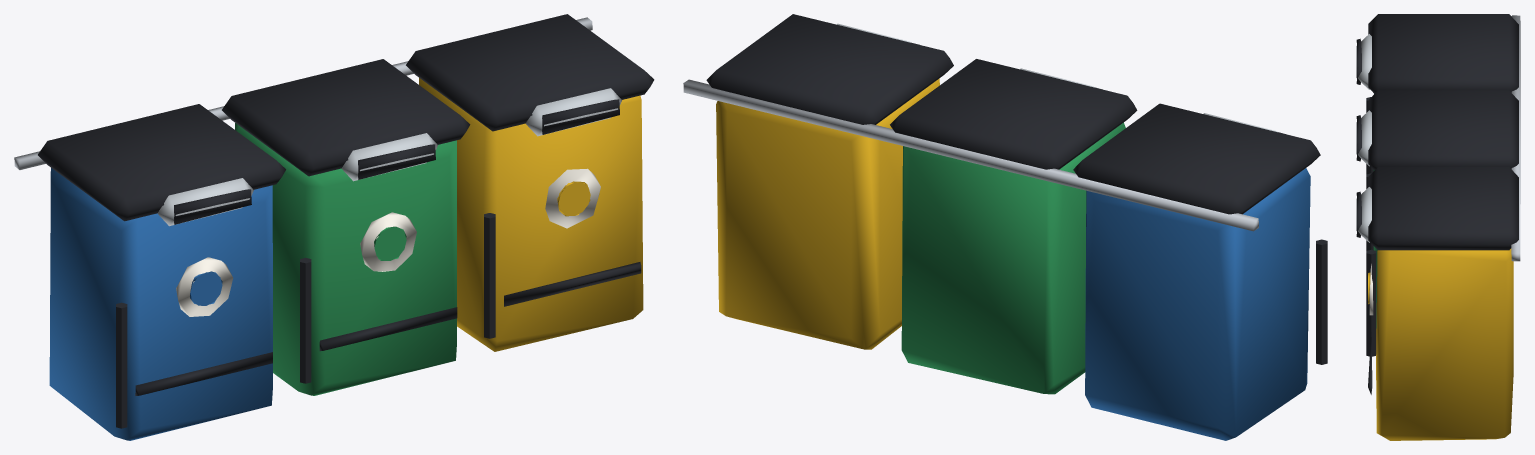
Rendered from lod_recycling_bins_triple.glb.
3 views of the same model, side by side, from view 1: azimuth 30°, elevation 25°; view 2: azimuth 150°, elevation 25°; view 3: azimuth 270°, elevation 25° (orthographic). The views are drawn at different scales.
Parts seen in each view (by area): view 1: recycling_bins_triple; view 2: recycling_bins_triple; view 3: recycling_bins_triple.
Part boxes in pixels (x1,y1,x2,y2): recycling_bins_triple: (14,14,654,440); recycling_bins_triple: (683,14,1327,440); recycling_bins_triple: (1356,14,1520,440).
Size of the model in its own units: 2.49 by 1.05 by 0.7267.
